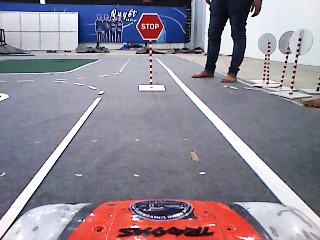stop: (136, 12, 165, 40)
